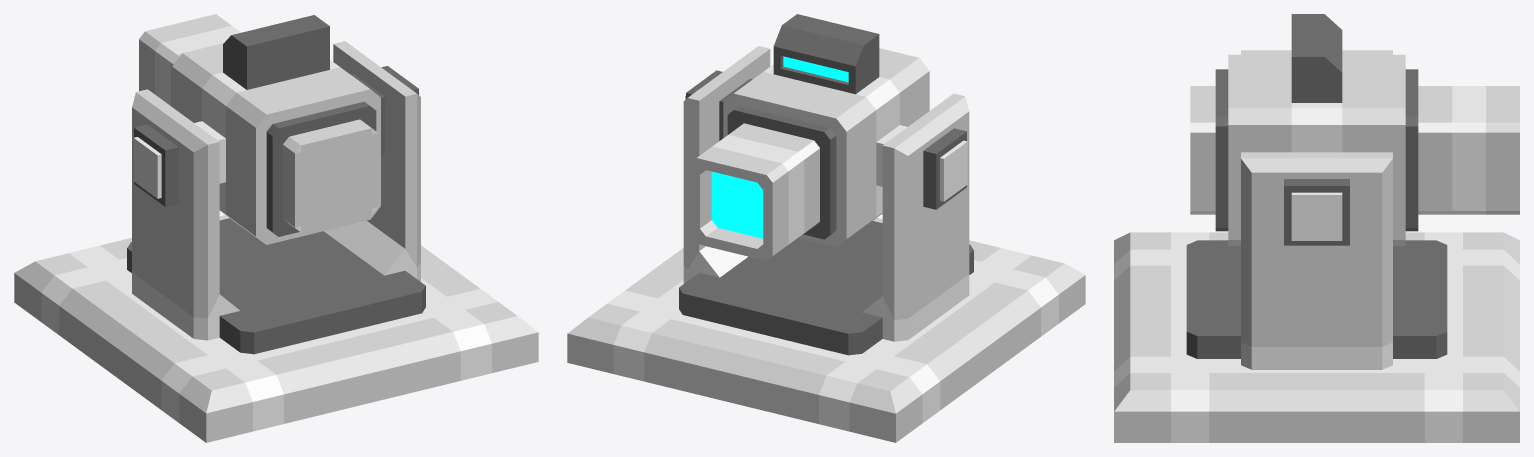
File: Turret.fbx
The picture shows the model from 3 angles, left to right: view 1: azimuth 30°, elevation 25°; view 2: azimuth 150°, elevation 25°; view 3: azimuth 270°, elevation 25°; orthographic projection. The views are drawn at different scales.
Parts seen in each view (by area): view 1: BasePlate, Rotator, Chasis, Barrel; view 2: BasePlate, Rotator, Chasis, Barrel; view 3: BasePlate, Rotator, Chasis, Barrel.
Boxes of the visible parts, bbox=[...] form: BasePlate: bbox=[14, 215, 538, 442]; Rotator: bbox=[127, 41, 425, 354]; Chasis: bbox=[133, 15, 419, 244]; Barrel: bbox=[139, 14, 377, 232]; BasePlate: bbox=[567, 218, 1085, 442]; Rotator: bbox=[679, 46, 973, 355]; Chasis: bbox=[685, 14, 967, 247]; Barrel: bbox=[690, 123, 819, 260]; BasePlate: bbox=[1114, 232, 1519, 442]; Rotator: bbox=[1186, 50, 1447, 369]; Chasis: bbox=[1215, 14, 1418, 245]; Barrel: bbox=[1190, 86, 1519, 214].
Size of the model in its own units: 160 by 160 by 140.
